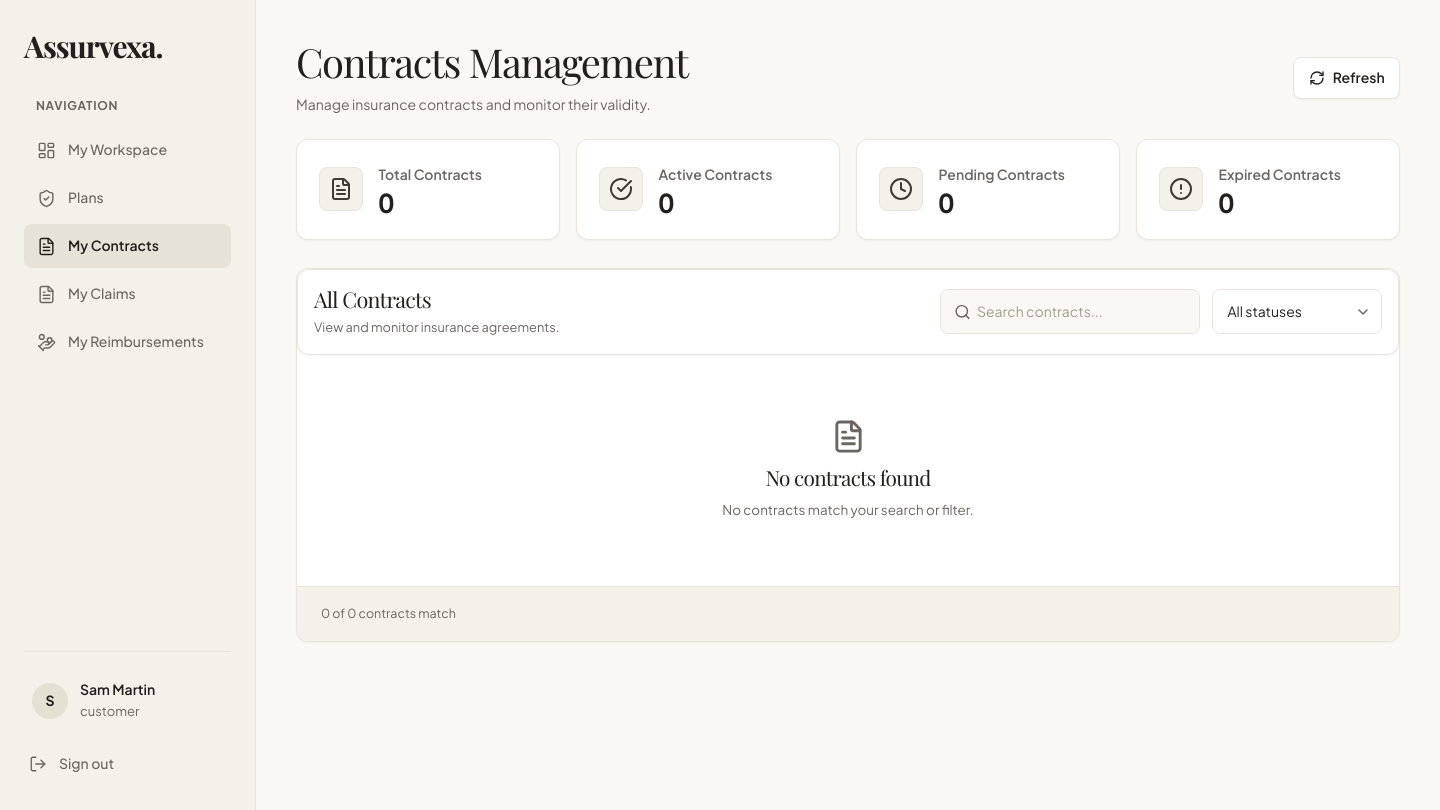
it: a customer can open My Profile and save changes to their account and address
The width and height of the screenshot is (1440, 810).
expect the link "My Profile" is not shown: met
Click the link with aria-label "Sam Martin, customer. Open profile": click(94, 700) [32,680,155,719]
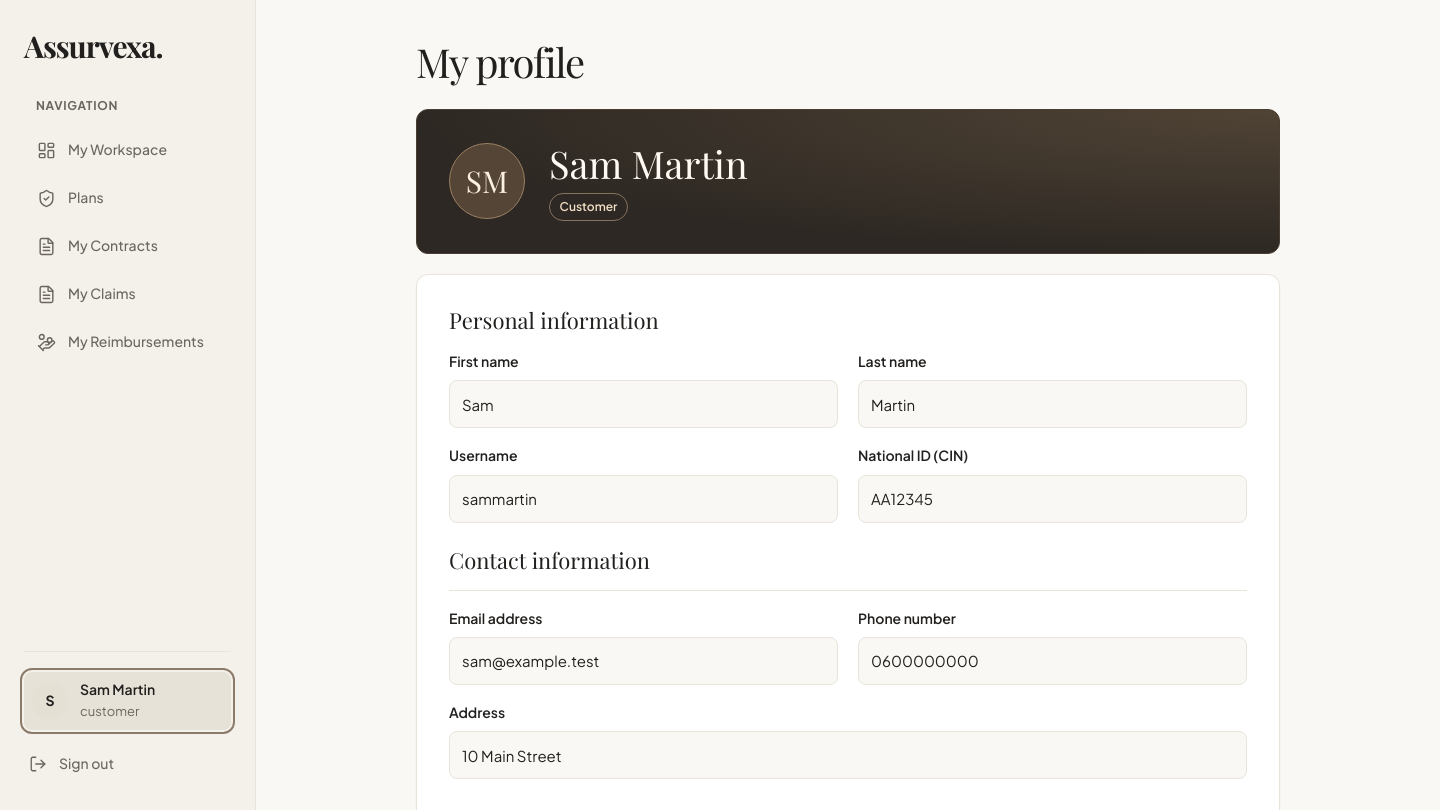
Replace the text in the field labelled "First name" with "Samantha": (644, 404) [449,380,838,428]
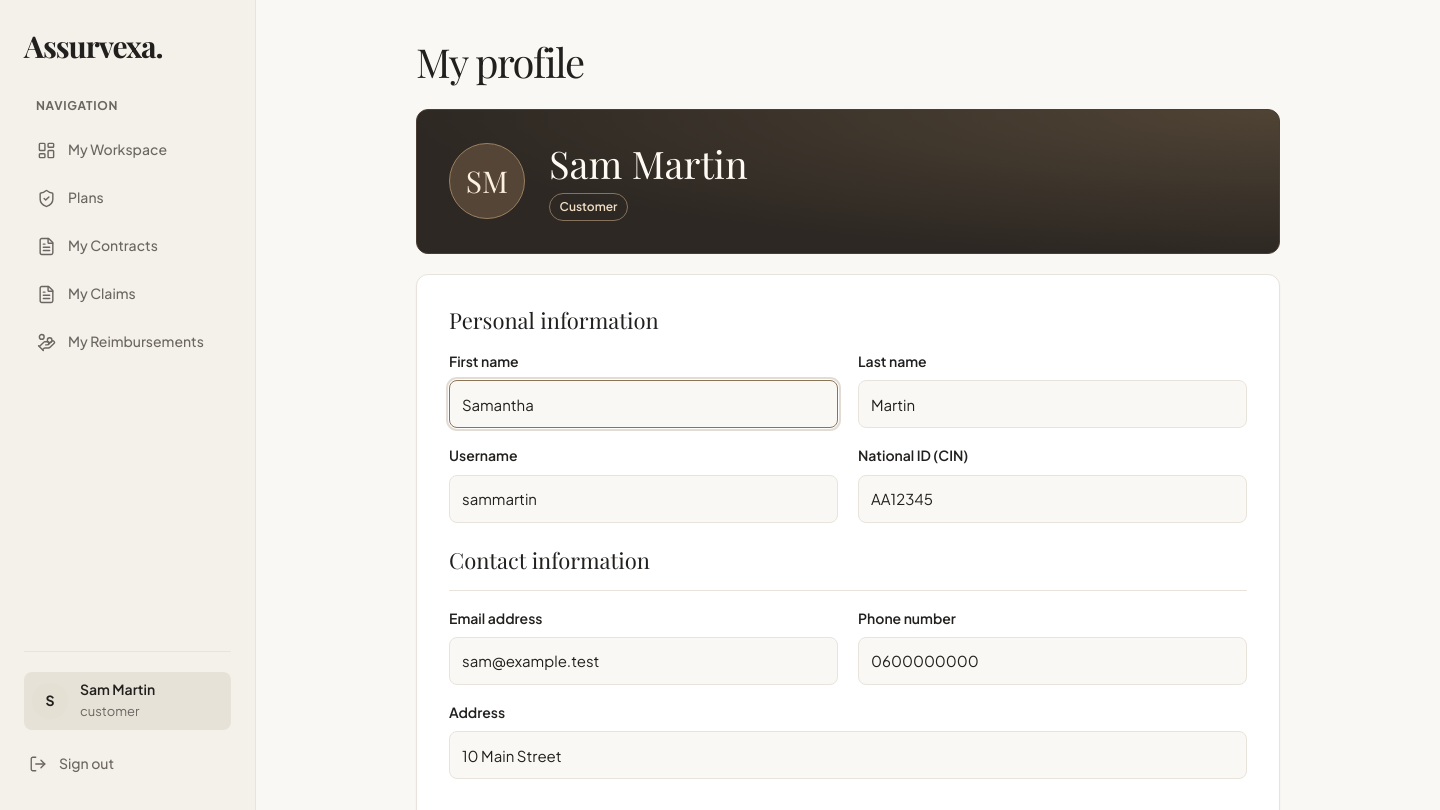
expect the field labelled "Address" holds "10 Main Street": met
Replace the text in the field labelled "Address" with "20 Main Street": (848, 755) [449,731,1247,779]
(page scrolled)
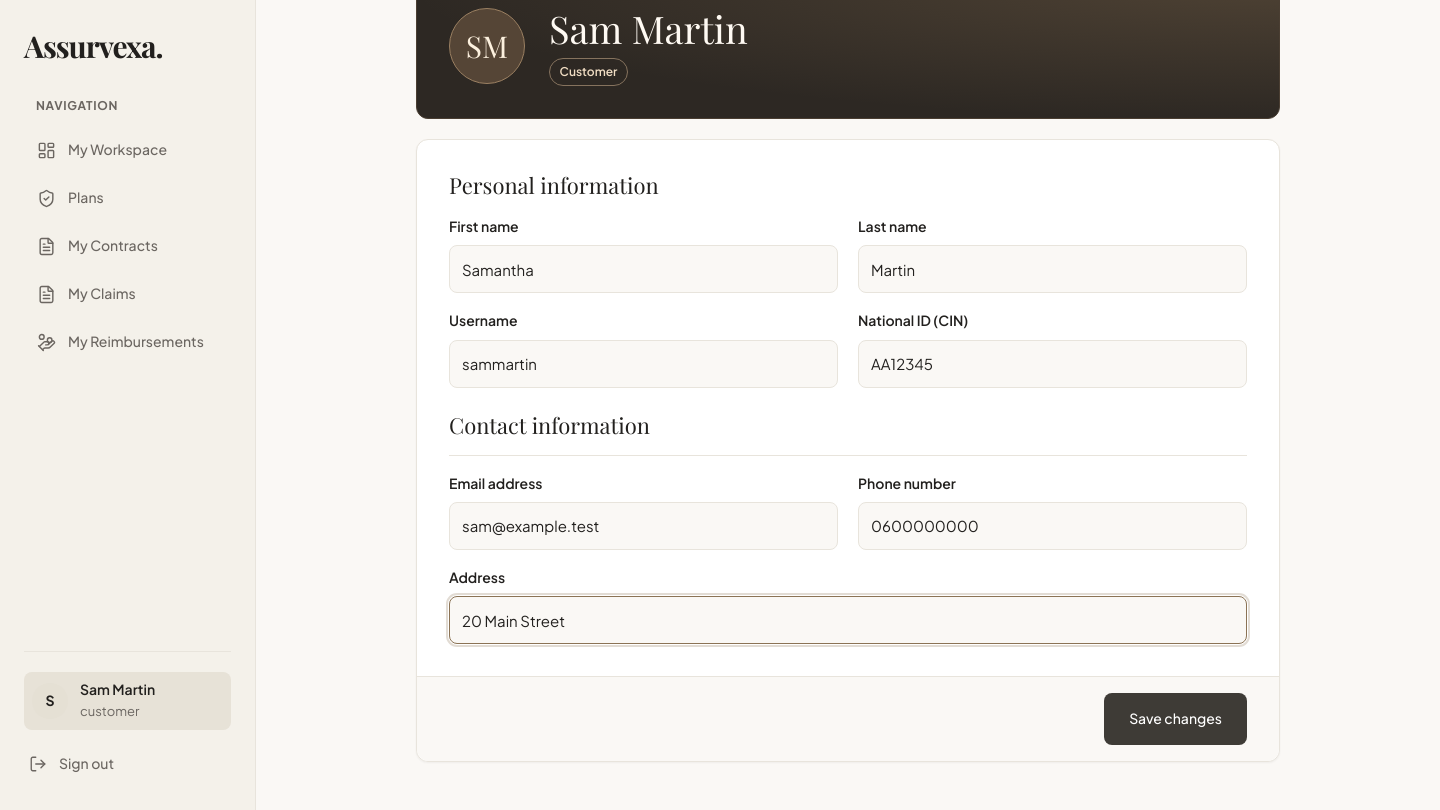
Click the button "Save changes": click(1176, 719) [1104,693,1247,745]
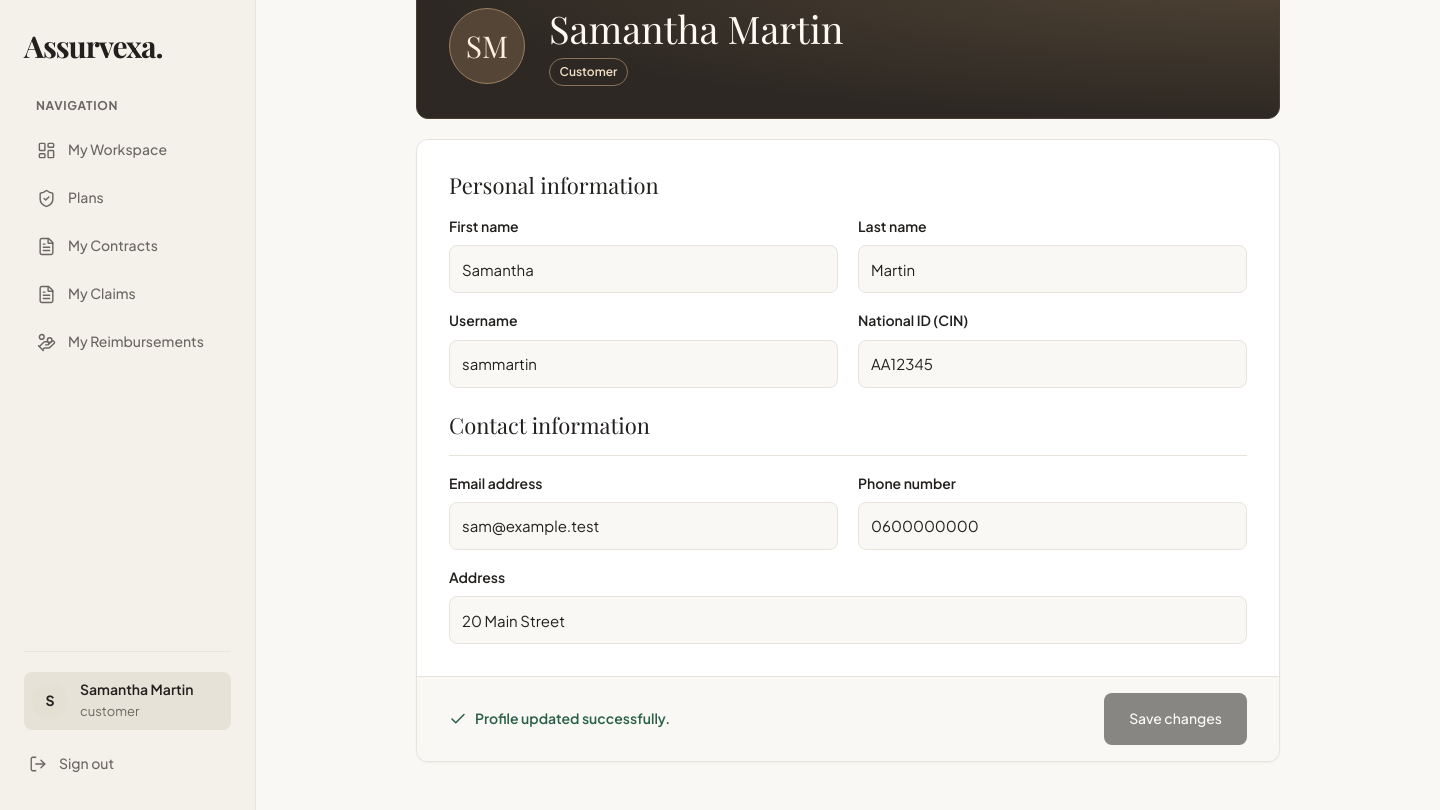
expect the message reads "Profile updated successfully.": met, box [475,709,670,727]
expect the 2nd text "Samantha Martin" is shown: met, box [80,680,193,700]
